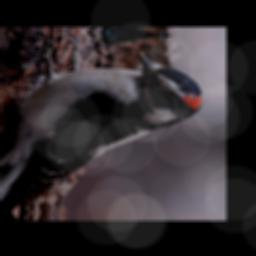Woodpecker: (0, 42, 212, 218)
